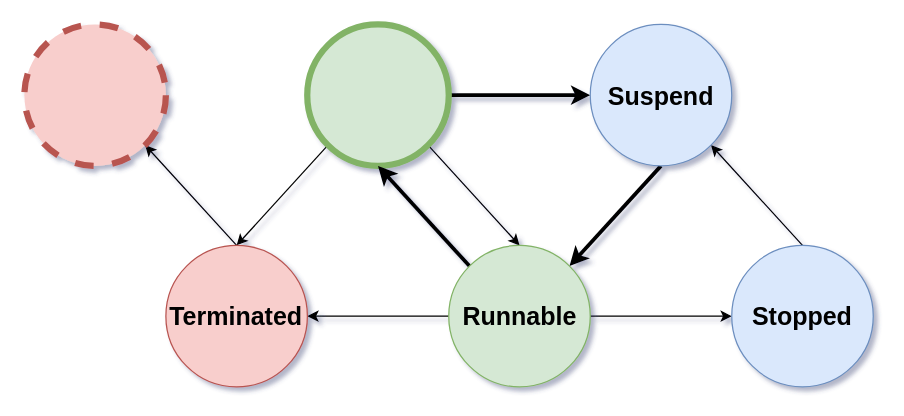
The diagram is 904 pixels wide and 416 high, and some of its shapes have lost their labels. Each missing label, with the centre of its shape:
Running: pixel 377 94
Zombie: pixel 94 94
